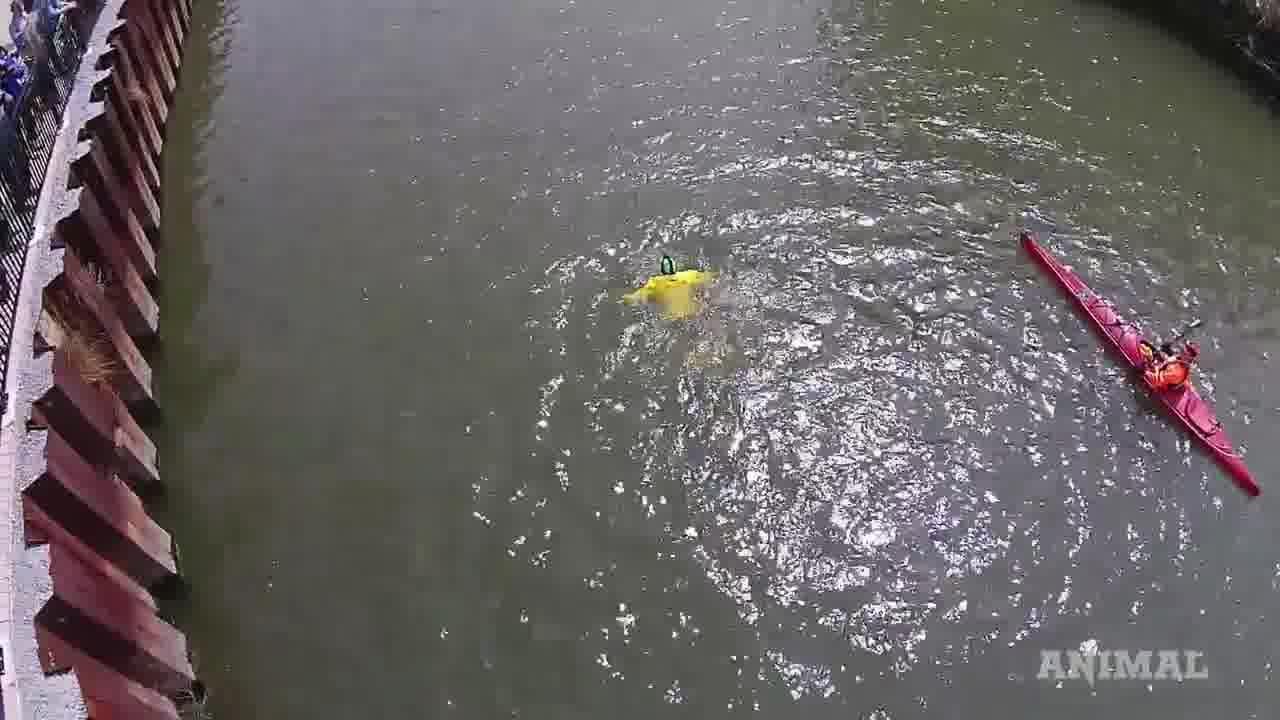swimmer: (627, 239, 714, 319)
